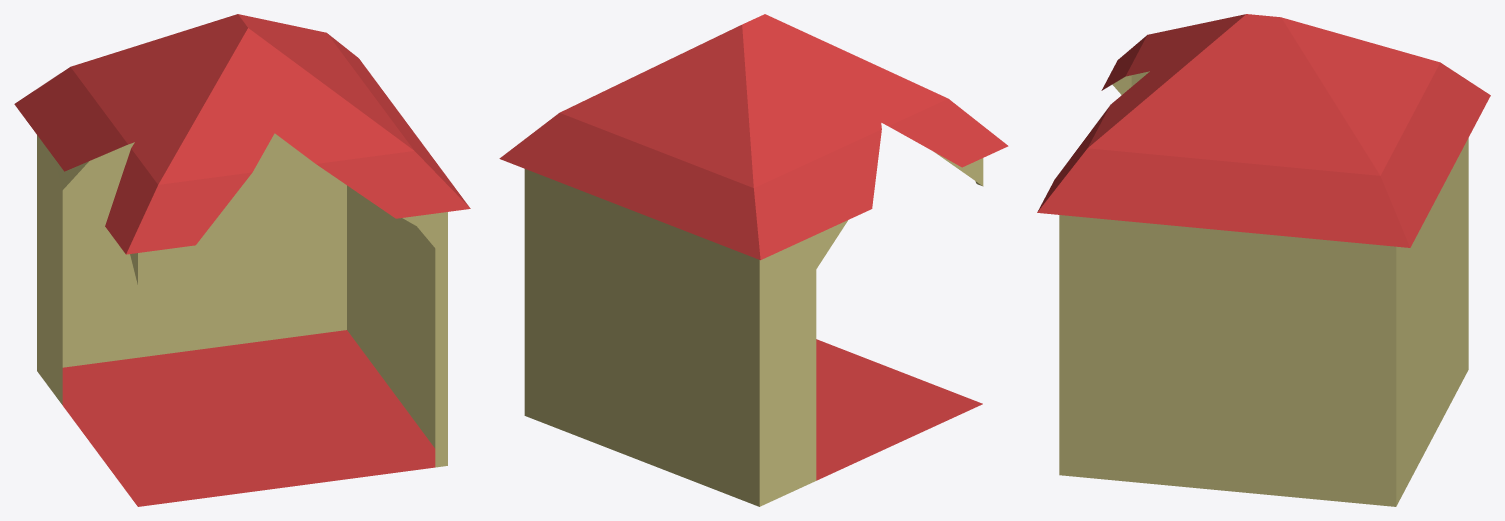
3 renders of one model, left to right at view 1: azimuth 30°, elevation 25°; view 2: azimuth 150°, elevation 25°; view 3: azimuth 270°, elevation 25°, orthographic. The views are drawn at different scales.
Bounding box in the file's own units: 17.83 × 18.2 × 18.01.
